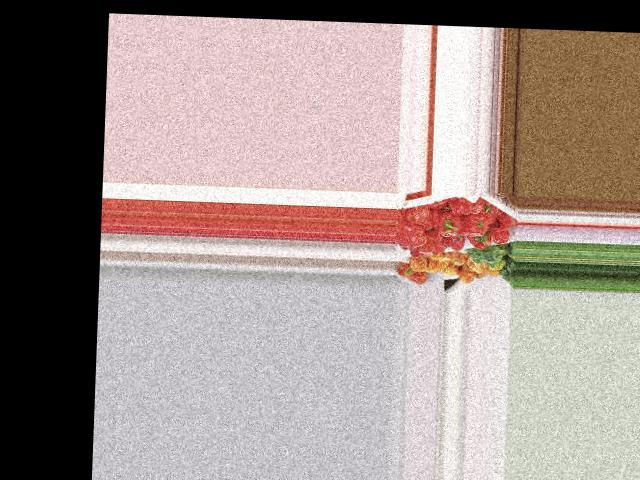bell_pepper: (447, 194, 484, 215)
